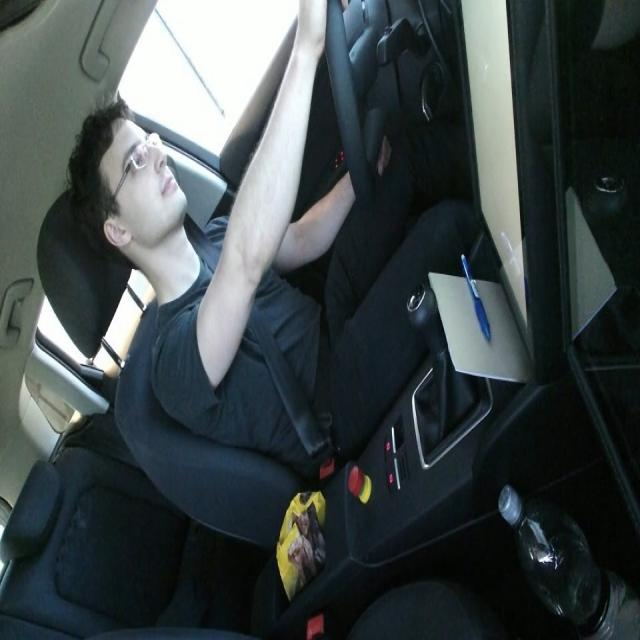pen: (459, 252, 492, 342)
